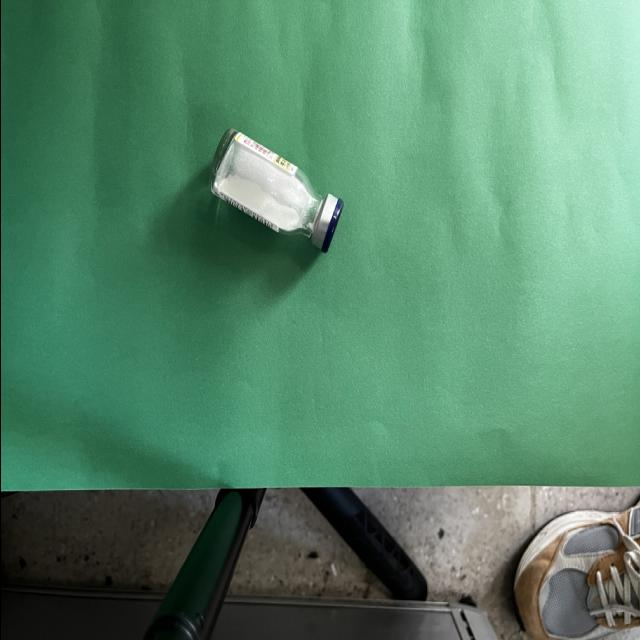Vials: (206, 128, 342, 254)
